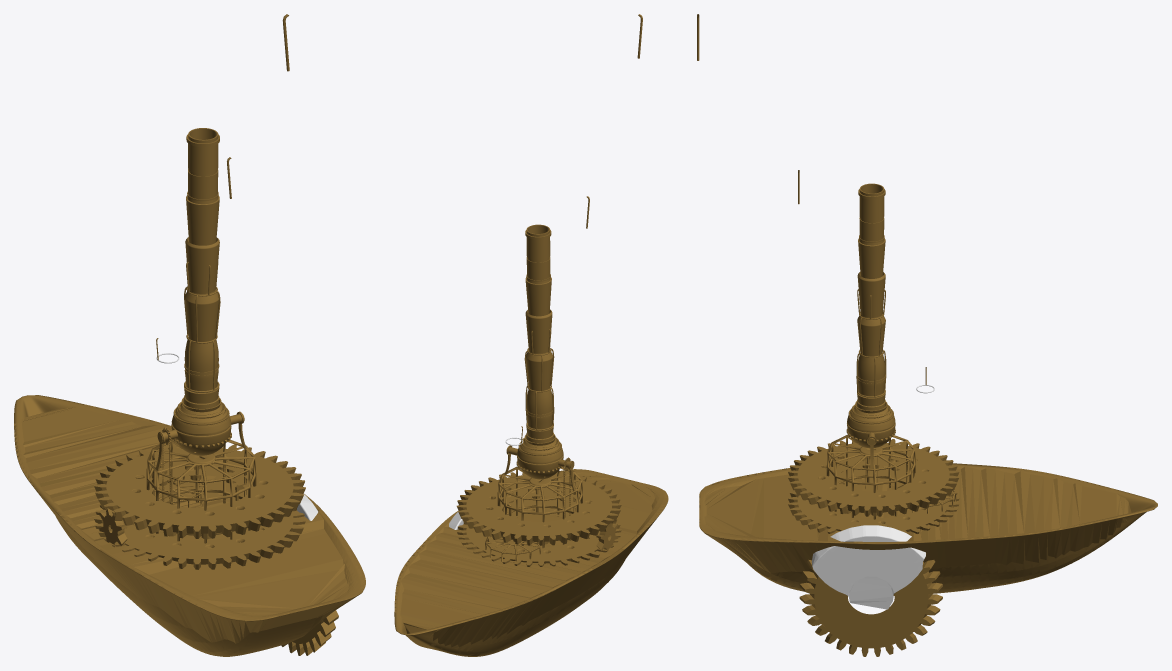
File: boat.fbx
3 views of the same model, side by side, from view 1: azimuth 30°, elevation 25°; view 2: azimuth 150°, elevation 25°; view 3: azimuth 270°, elevation 25° (orthographic). The views are drawn at different scales.
Parts seen in each view (by area): view 1: ClipConvexMask, Cannon, Gear.002, Gear.001, Boat, Cylinder, Gear, Gear.003; view 2: ClipConvexMask, Cannon, Gear.002, Gear.001, Boat, Cylinder, Cylinder.003, Gear.003; view 3: ClipConvexMask, Gear.002, Cannon, Gear, BoatGearMask, Gear.001, Boat, Cylinder.
Boxes of the visible parts, x1=… form: ClipConvexMask: x1=14, y1=404, x2=365, y2=656; Cannon: x1=171, y1=128, x2=231, y2=455; Gear.002: x1=94, y1=444, x2=305, y2=538; Gear.001: x1=94, y1=475, x2=305, y2=569; Boat: x1=14, y1=395, x2=365, y2=656; Cylinder: x1=146, y1=439, x2=256, y2=543; Gear: x1=281, y1=610, x2=338, y2=655; Gear.003: x1=99, y1=505, x2=127, y2=546; ClipConvexMask: x1=394, y1=469, x2=668, y2=656; Cannon: x1=516, y1=224, x2=563, y2=479; Gear.002: x1=456, y1=472, x2=621, y2=545; Gear.001: x1=456, y1=497, x2=621, y2=566; Boat: x1=394, y1=469, x2=667, y2=656; Cylinder: x1=497, y1=466, x2=582, y2=547; Cylinder.003: x1=485, y1=535, x2=543, y2=562; Gear.003: x1=596, y1=519, x2=618, y2=551; ClipConvexMask: x1=699, y1=464, x2=1131, y2=593; Gear.002: x1=788, y1=439, x2=959, y2=516; Cannon: x1=846, y1=183, x2=895, y2=448; Gear: x1=799, y1=553, x2=942, y2=656; BoatGearMask: x1=811, y1=525, x2=925, y2=609; Gear.001: x1=788, y1=465, x2=959, y2=533; Boat: x1=699, y1=463, x2=1157, y2=595; Cylinder: x1=826, y1=435, x2=915, y2=519.
Size of the model in its own units: 314 by 728 by 1047.
